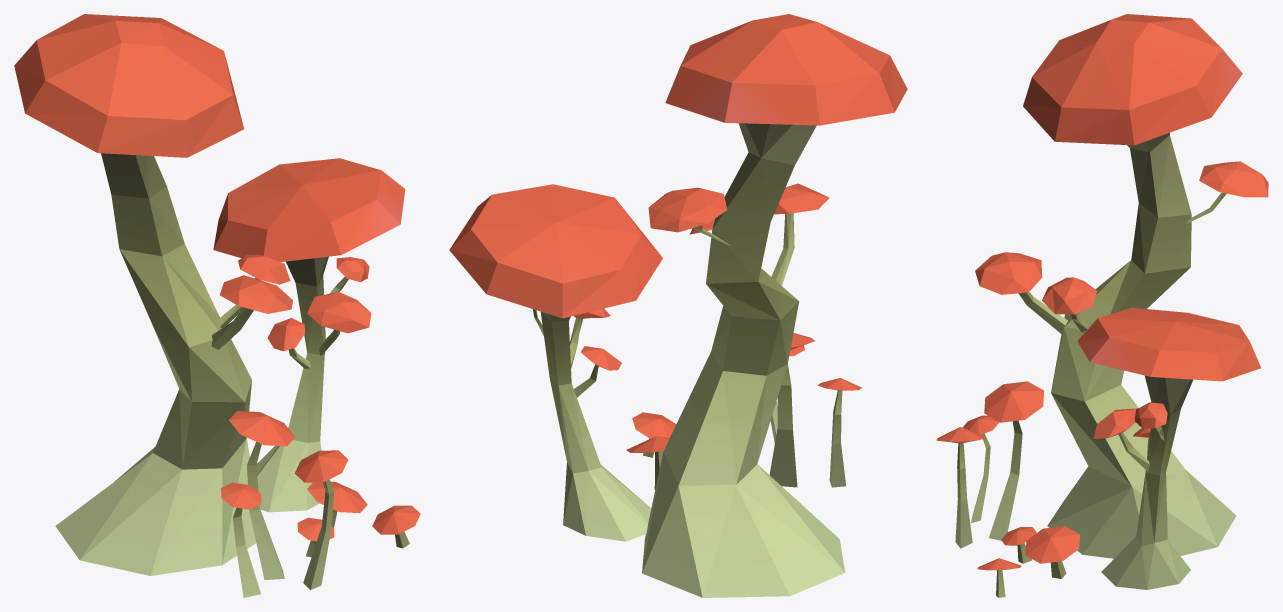
Rendered from plant_XL04.FBX.
3 views of the same model, side by side, from view 1: azimuth 30°, elevation 25°; view 2: azimuth 150°, elevation 25°; view 3: azimuth 270°, elevation 25° (orthographic). The views are drawn at different scales.
Visible parts, largest first — view 1: Plant_XL04; view 2: Plant_XL04; view 3: Plant_XL04.
Part boxes in pixels (x1=…): Plant_XL04: x1=14, y1=14, x2=420, y2=597; Plant_XL04: x1=449, y1=14, x2=907, y2=597; Plant_XL04: x1=936, y1=14, x2=1268, y2=597.
Bounding box in the file's own units: 216 × 275 × 172.
Materials: 1 (1 with a texture image).
